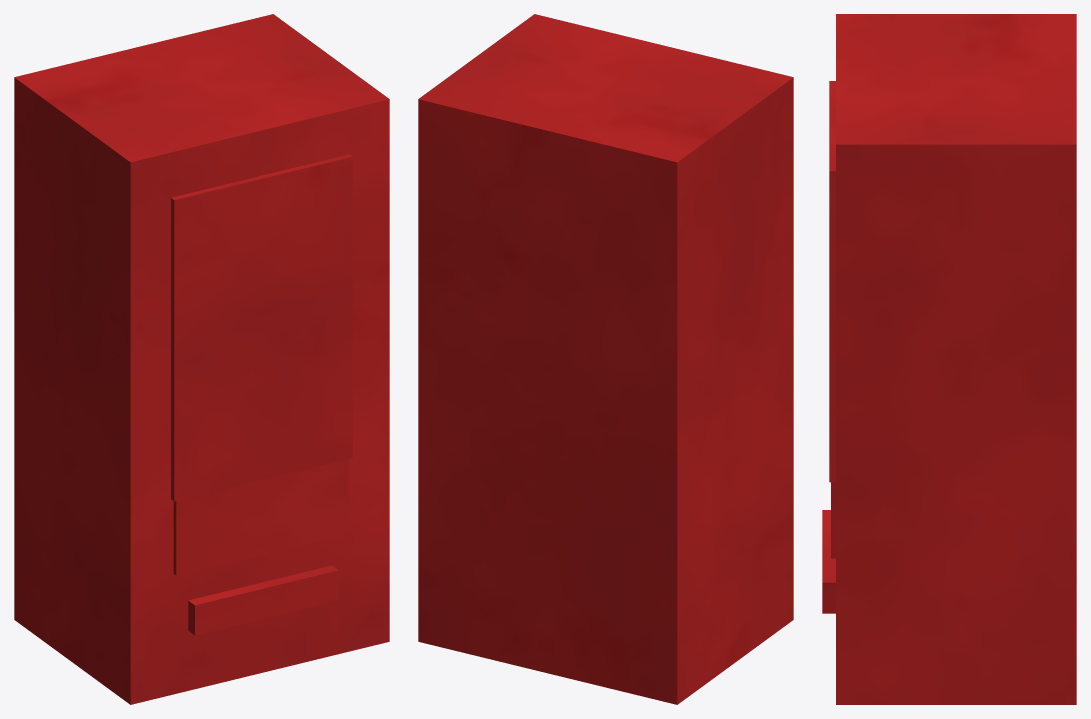
The model's file is vending_machine.glb.
3 views of the same model, side by side, from view 1: azimuth 30°, elevation 25°; view 2: azimuth 150°, elevation 25°; view 3: azimuth 270°, elevation 25° (orthographic). The views are drawn at different scales.
Parts seen in each view (by area): view 1: vending_machine; view 2: vending_machine; view 3: vending_machine.
Boxes of the visible parts, <box> form: vending_machine: <box>14,14,389,704</box>; vending_machine: <box>418,14,793,704</box>; vending_machine: <box>822,14,1076,704</box>.
Size of the model in its own units: 0.9 by 1.8 by 0.74.
1 material, 1 textured.
